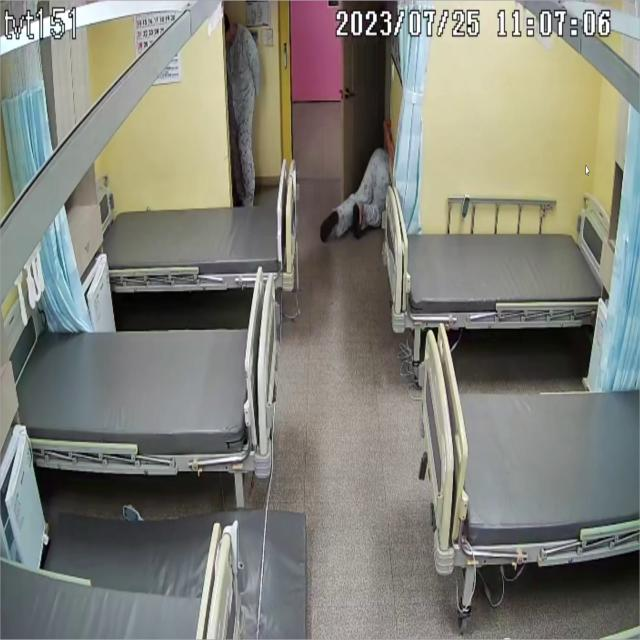bed: (420, 324, 640, 569), (14, 318, 278, 470), (382, 213, 616, 332), (105, 192, 294, 290)
fall: (322, 145, 392, 247)
patient: (322, 144, 393, 245), (227, 0, 260, 205)
